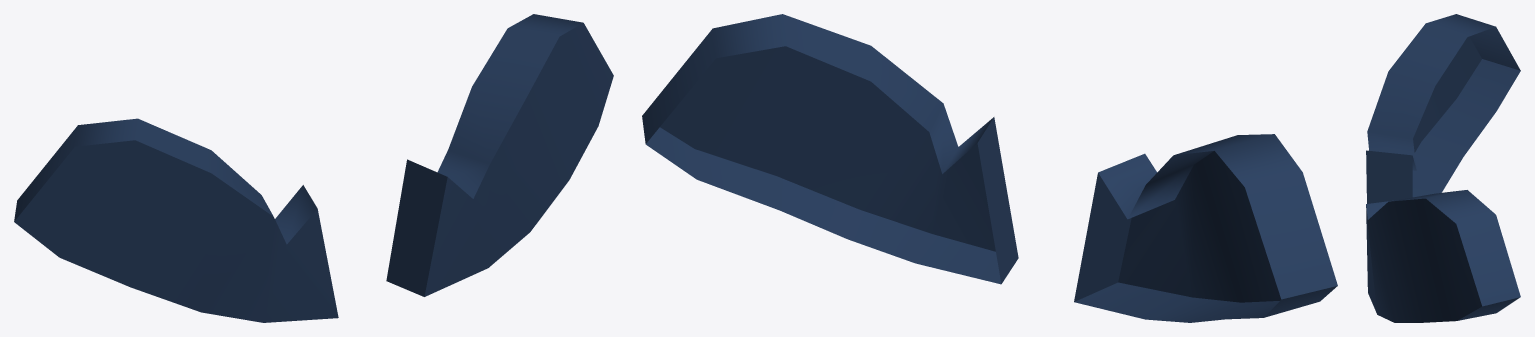
The model's file is Brow_Blue_10.fbx.
3 views of the same model, side by side, from view 1: azimuth 30°, elevation 25°; view 2: azimuth 150°, elevation 25°; view 3: azimuth 270°, elevation 25° (orthographic). The views are drawn at different scales.
Parts seen in each view (by area): view 1: Brow_Blue_10; view 2: Brow_Blue_10; view 3: Brow_Blue_10.
Part boxes in pixels (x1,y1,x2,y2): Brow_Blue_10: [14, 14, 613, 322]; Brow_Blue_10: [642, 14, 1337, 322]; Brow_Blue_10: [1366, 14, 1520, 322].
Size of the model in its own units: 40.26 by 12.48 by 10.64.
